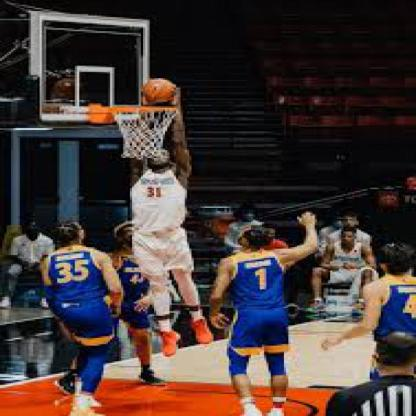basketball: (143, 80, 178, 103)
rim: (101, 103, 179, 117)
